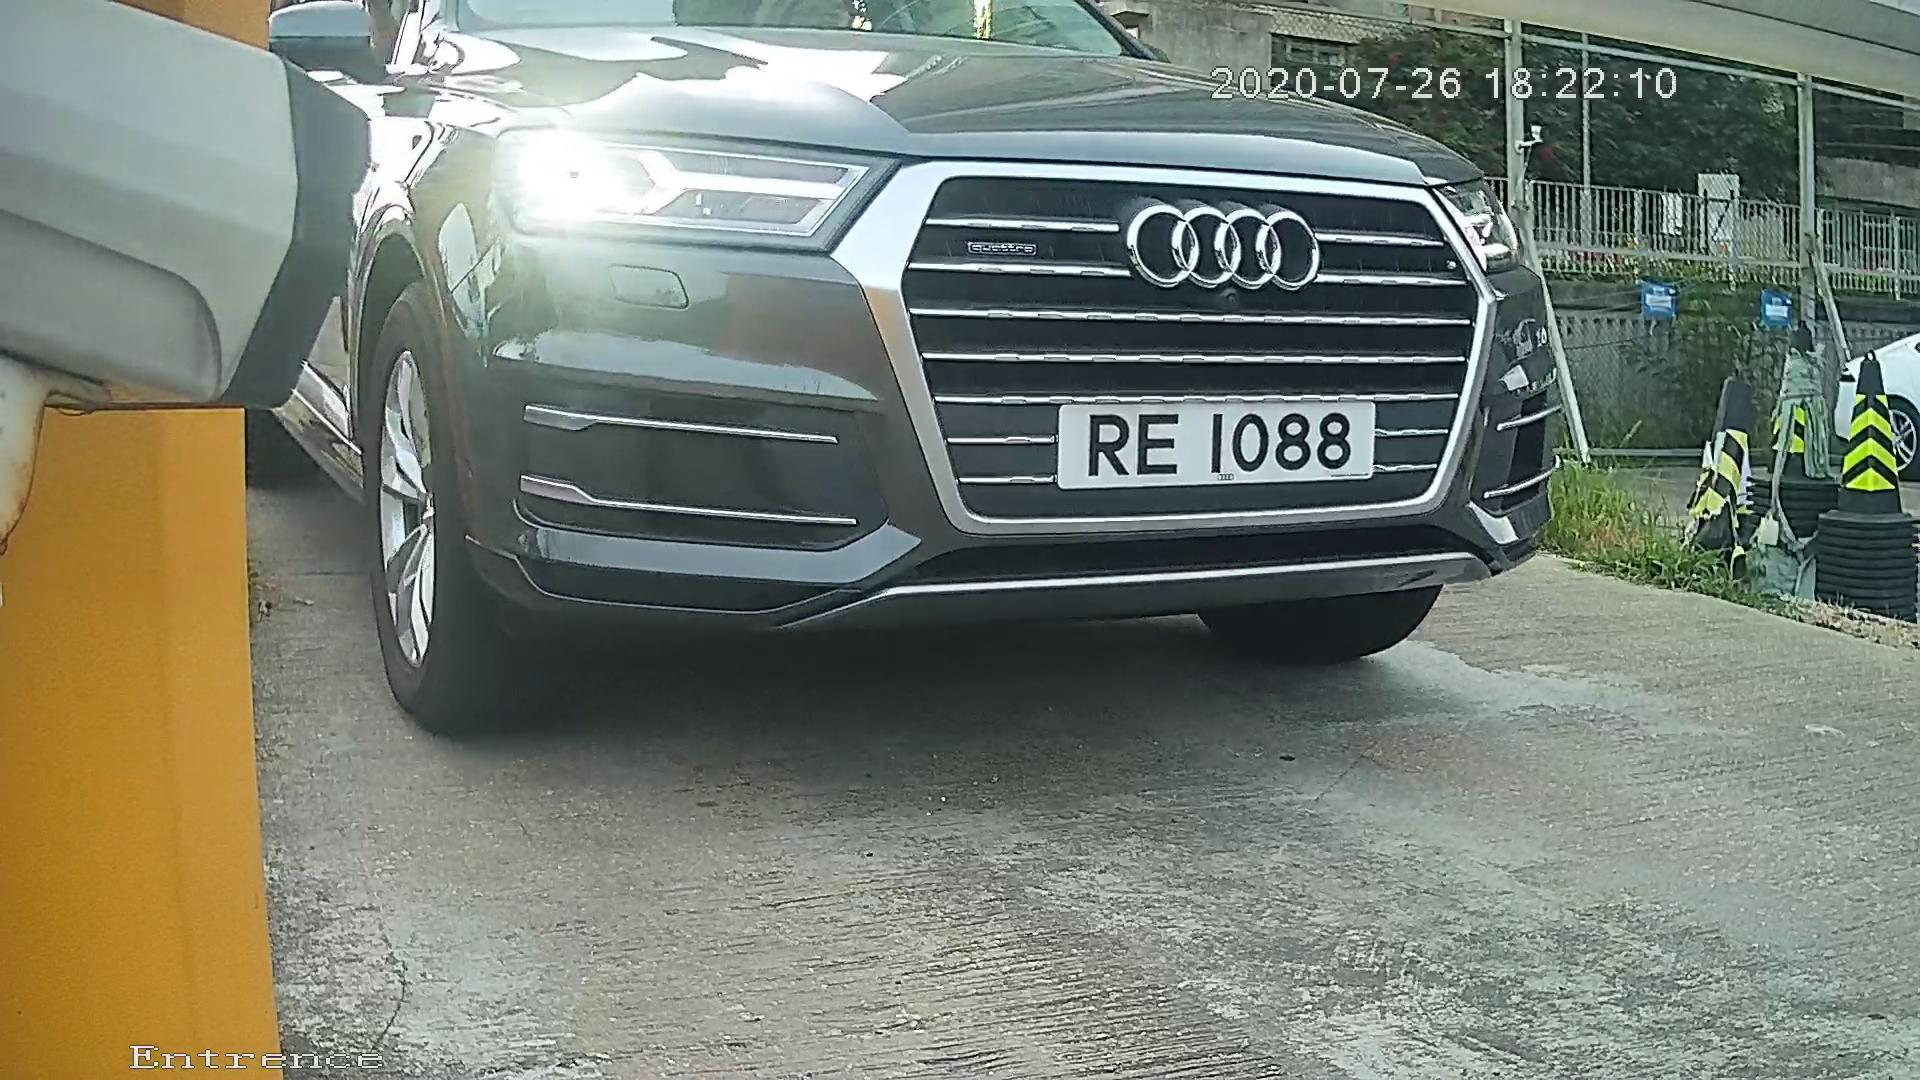Car: (129, 39, 1646, 724)
License Plate: (1003, 381, 1415, 502)
